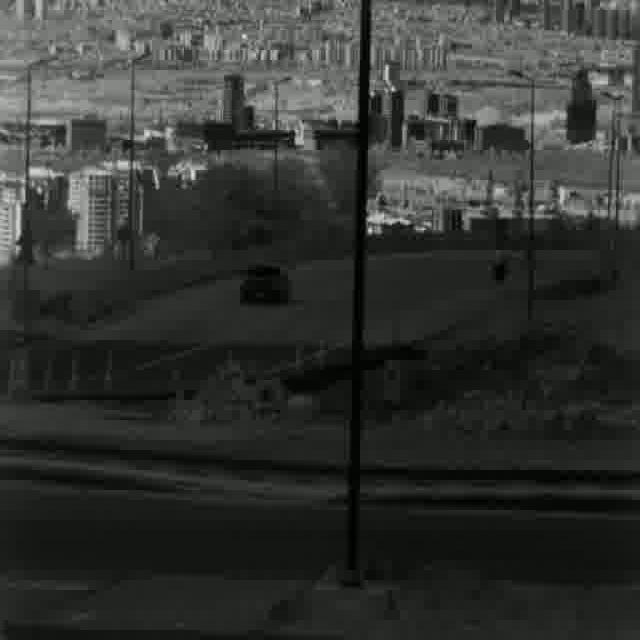Car: (238, 260, 292, 305)
Motorcycle: (484, 238, 510, 283)
